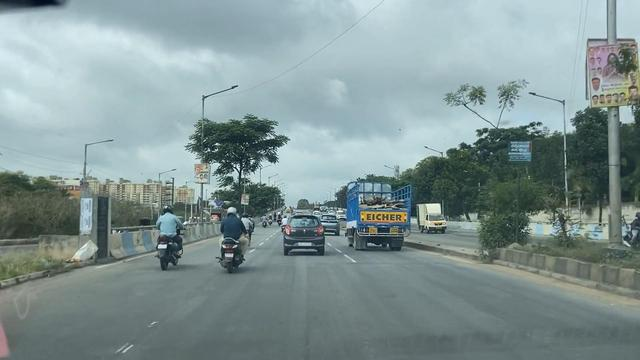HMV: (353, 181, 408, 254)
LMV: (152, 203, 187, 271), (280, 212, 325, 253), (219, 208, 244, 271)
